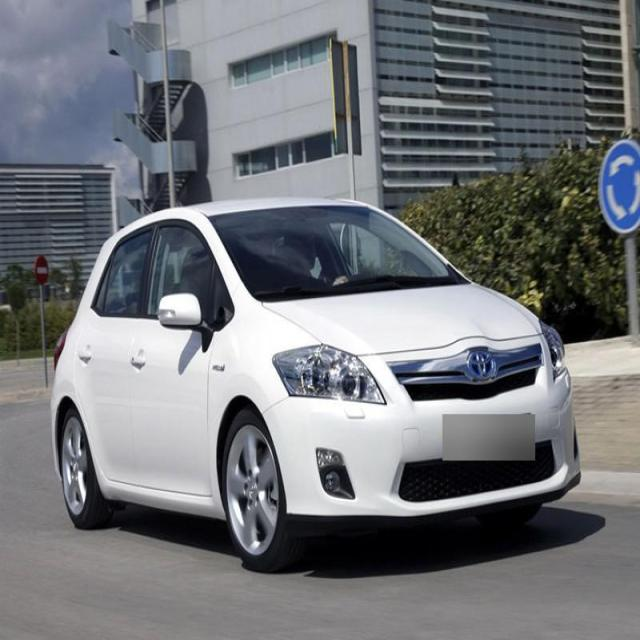back_right_side_light: (52, 328, 68, 372)
door: (74, 226, 158, 498)
front_bumper: (260, 334, 586, 519)
front_glass: (207, 204, 465, 304)
front_left_side_light: (538, 315, 566, 381)
front_right_side_door: (126, 215, 214, 499)
front_right_side_light: (272, 343, 388, 406)
front_right_side_mirror: (158, 291, 211, 341)
wheel: (220, 407, 306, 569), (59, 408, 122, 530)
